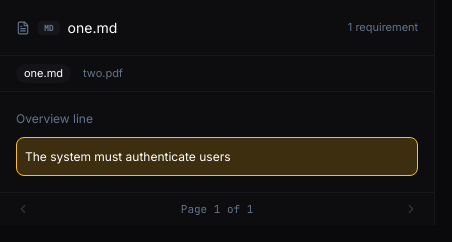
Scenario: BrdDocumentViewer — multiple documents › switches documents and resets to page one
This screenshot has width=452, height=242.
Click the button "two.pdf".
click(103, 73)  # box [75,64,131,82]
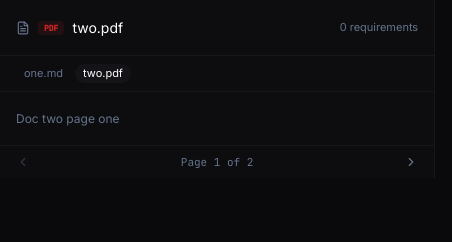
Result: the text "Page 1 of 2" is shown at [181,154,253,170]
Result: the text "Doc two page one" is shown at [16,110,120,126]
